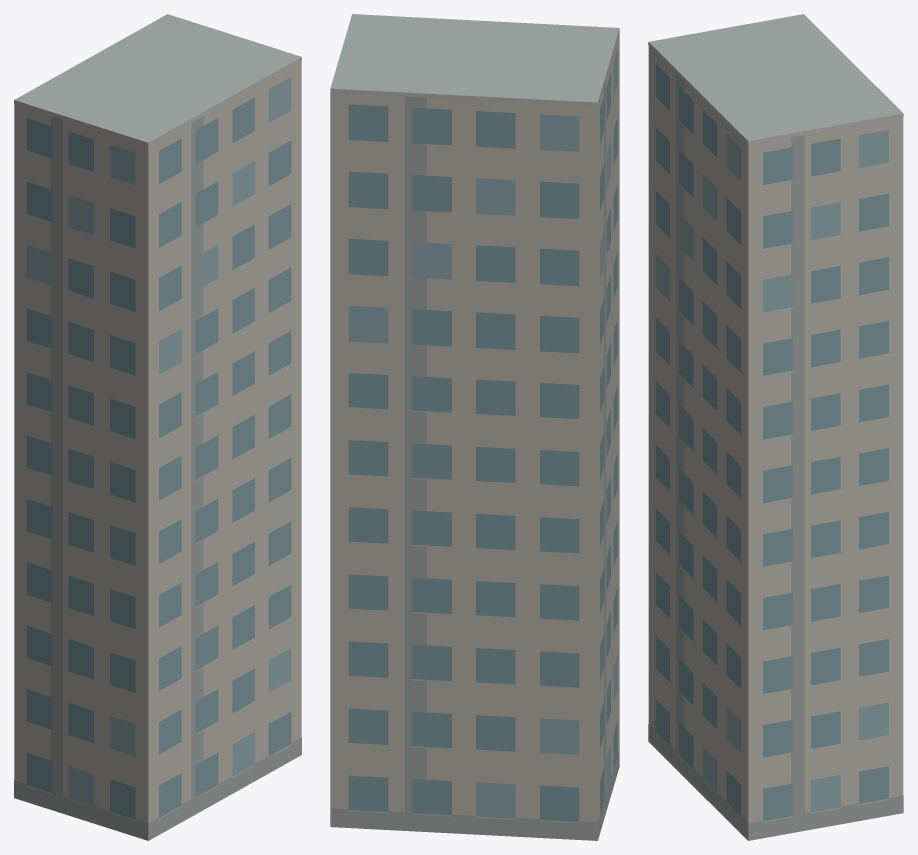
File: residential-e8508ee6-09c5-4ff8-88ea-e64641039210.glb
3 renders of one model, left to right at view 1: azimuth 30°, elevation 25°; view 2: azimuth 150°, elevation 25°; view 3: azimuth 270°, elevation 25°, orthographic. The views are drawn at different scales.
Parts seen in each view (by area): view 1: residential-e8508ee6-09c5-4ff8-88ea-e64641039210.tmp; view 2: residential-e8508ee6-09c5-4ff8-88ea-e64641039210.tmp; view 3: residential-e8508ee6-09c5-4ff8-88ea-e64641039210.tmp.
Boxes of the visible parts, x1=… form: residential-e8508ee6-09c5-4ff8-88ea-e64641039210.tmp: x1=14, y1=14, x2=301, y2=840; residential-e8508ee6-09c5-4ff8-88ea-e64641039210.tmp: x1=330, y1=14, x2=619, y2=840; residential-e8508ee6-09c5-4ff8-88ea-e64641039210.tmp: x1=648, y1=14, x2=903, y2=840.
Size of the model in its own units: 17.55 by 45 by 14.87.
